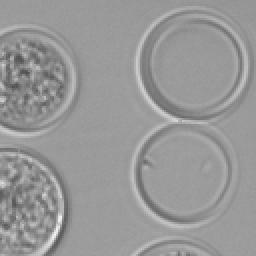picoshell: (134, 8, 252, 120), (130, 122, 236, 228), (0, 26, 76, 134), (0, 148, 64, 254), (136, 240, 212, 254)
